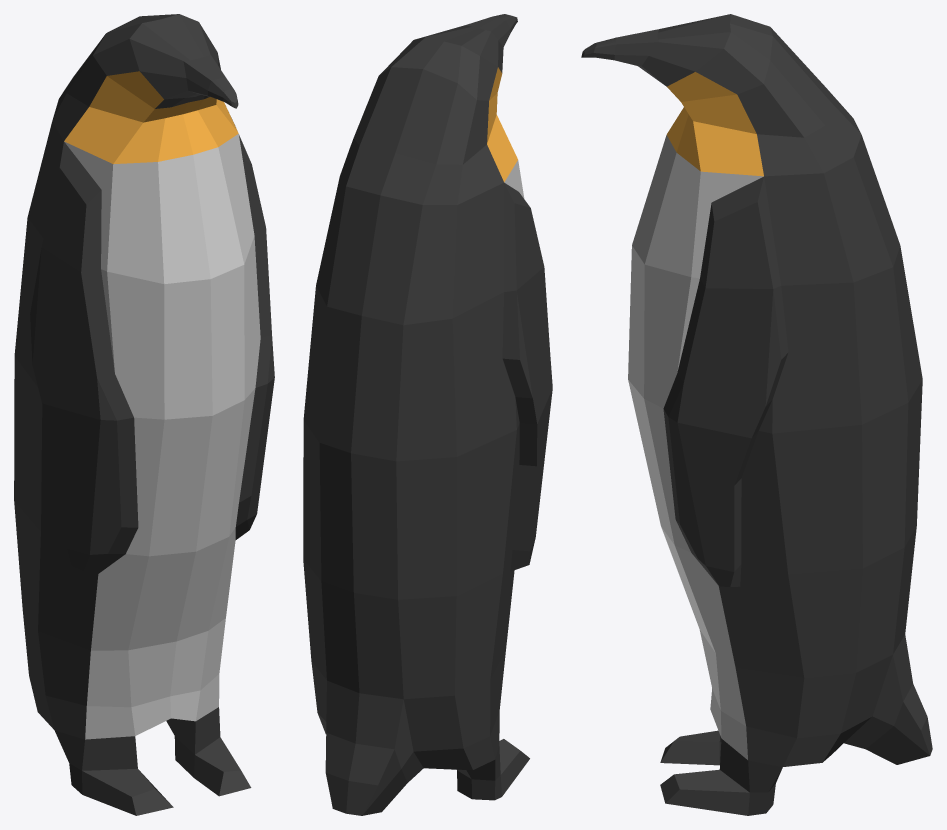
Rendered from 06penguinFinal.fbx.
The picture shows the model from 3 angles, left to right: view 1: azimuth 30°, elevation 25°; view 2: azimuth 150°, elevation 25°; view 3: azimuth 270°, elevation 25°; orthographic projection. The views are drawn at different scales.
Visible parts, largest first — view 1: 06penguinFinal; view 2: 06penguinFinal; view 3: 06penguinFinal.
Part boxes in pixels (bbox=[...]): 06penguinFinal: bbox=[14, 14, 274, 815]; 06penguinFinal: bbox=[303, 14, 552, 815]; 06penguinFinal: bbox=[581, 14, 932, 815].
Size of the model in its own units: 43.93 by 145 by 60.87.
